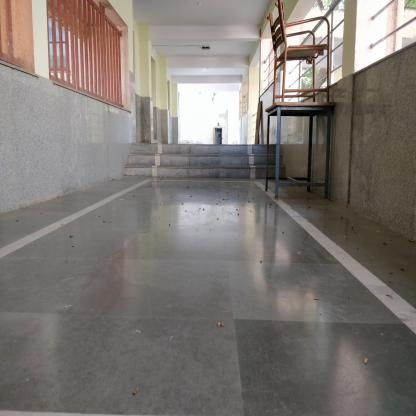stairs: (133, 144, 264, 182)
